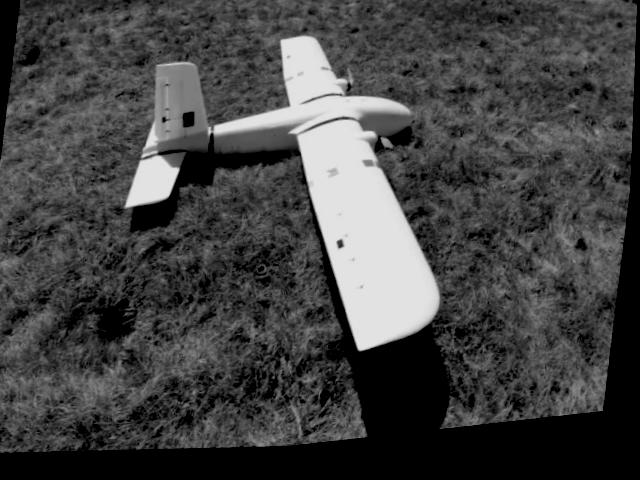hedef: (90, 0, 541, 421)
